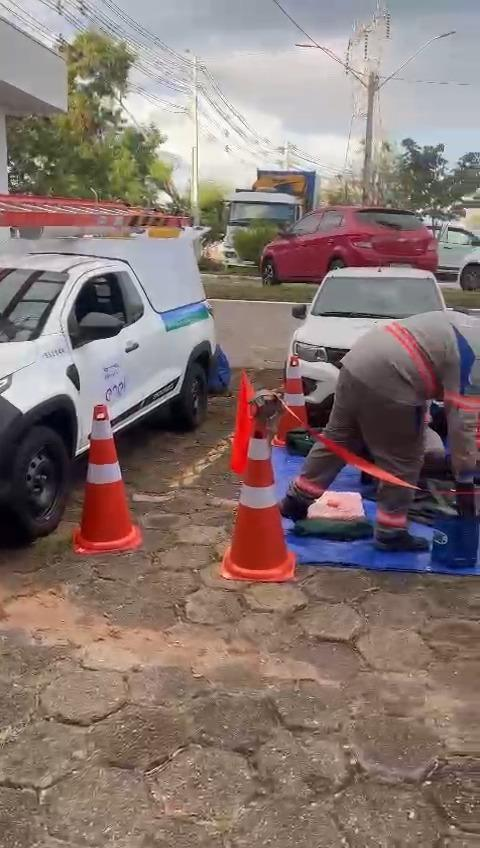Cone: (229, 416, 293, 586), (77, 400, 142, 554), (285, 348, 313, 443)
